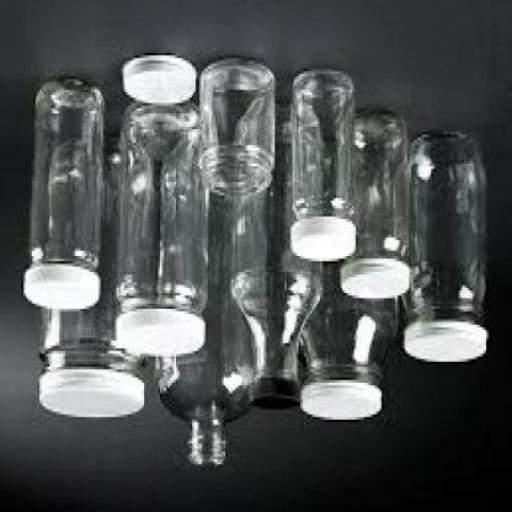glass: (156, 190, 259, 470), (227, 100, 321, 382), (38, 140, 142, 377), (112, 103, 204, 317), (400, 135, 484, 327), (29, 84, 101, 272), (296, 254, 398, 385), (198, 60, 272, 198), (290, 71, 352, 224), (344, 116, 406, 264)
metal: (37, 372, 141, 422), (113, 309, 201, 356), (119, 56, 195, 105), (22, 267, 96, 314), (289, 216, 356, 266), (338, 259, 408, 306), (401, 325, 485, 364), (296, 383, 380, 422)
plastic: (249, 383, 296, 415)
